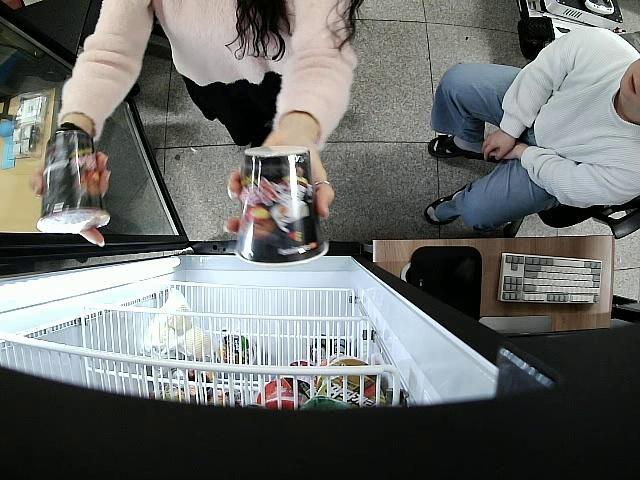08_buldak_S: (234, 145, 329, 268), (37, 131, 110, 234)
